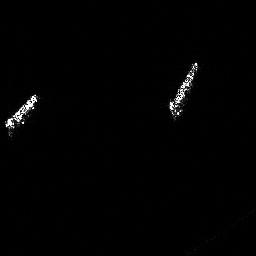ship: (167, 60, 199, 123), (4, 91, 39, 138)
